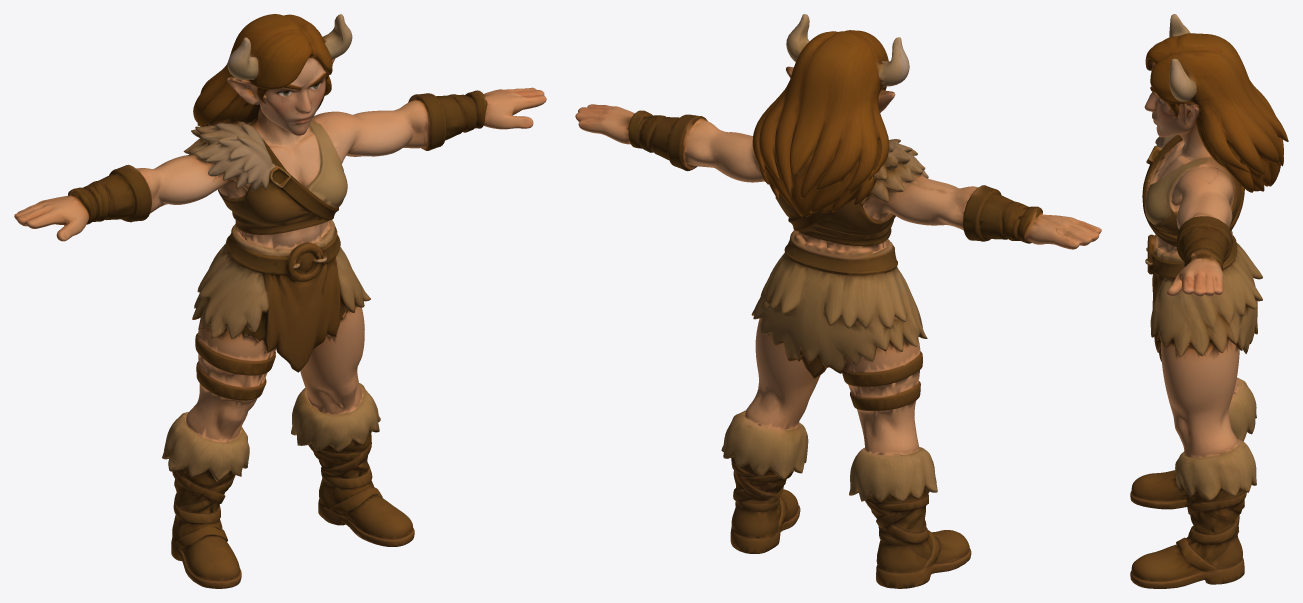
File: Alistar_old.fbx
The picture shows the model from 3 angles, left to right: view 1: azimuth 30°, elevation 25°; view 2: azimuth 150°, elevation 25°; view 3: azimuth 270°, elevation 25°; orthographic projection. The views are drawn at different scales.
Visible parts, largest first — view 1: material; view 2: material; view 3: material.
Part boxes in pixels (<box>): material: <box>14,14,546,588</box>; material: <box>575,14,1101,588</box>; material: <box>1130,14,1288,588</box>.
Bounding box in the file's own units: 110 × 104 × 29.79.
1 material, 1 textured.
